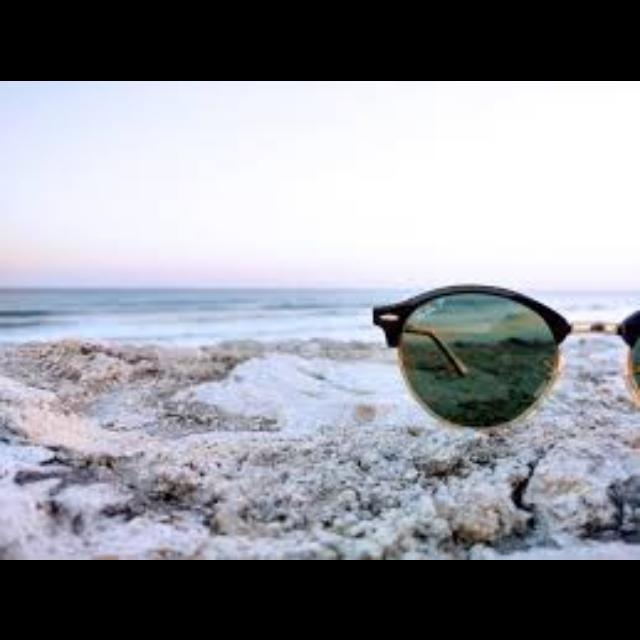sunglasses: (370, 279, 640, 427)
